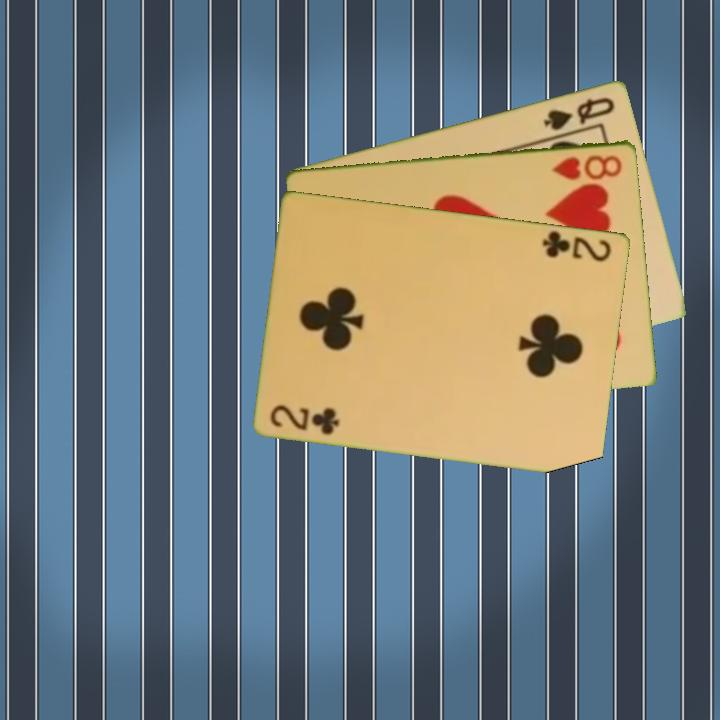2c: (539, 227, 615, 264), (267, 401, 343, 437)
8h: (548, 151, 625, 182)
Qs: (540, 93, 618, 133)
